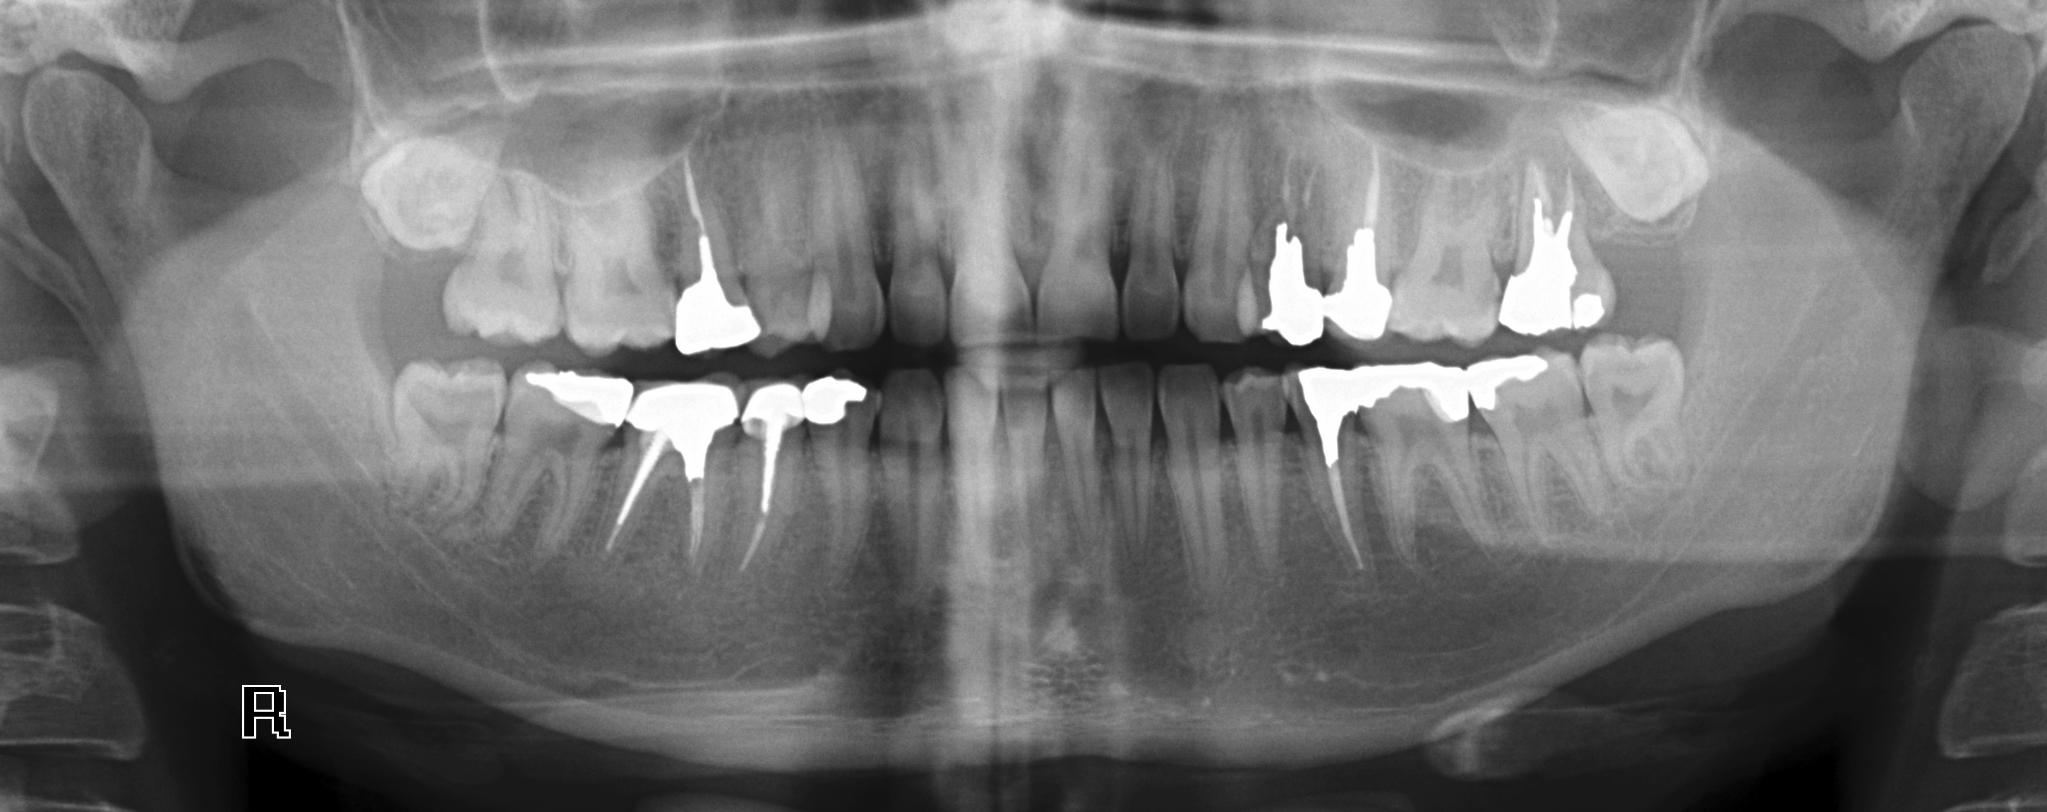Fillings: (1359, 360, 1496, 567), (491, 363, 632, 554), (804, 372, 879, 589)
Implant: (594, 372, 736, 590), (1490, 145, 1621, 343), (659, 141, 764, 363), (1287, 356, 1373, 598), (1317, 128, 1405, 347), (732, 373, 808, 601)
